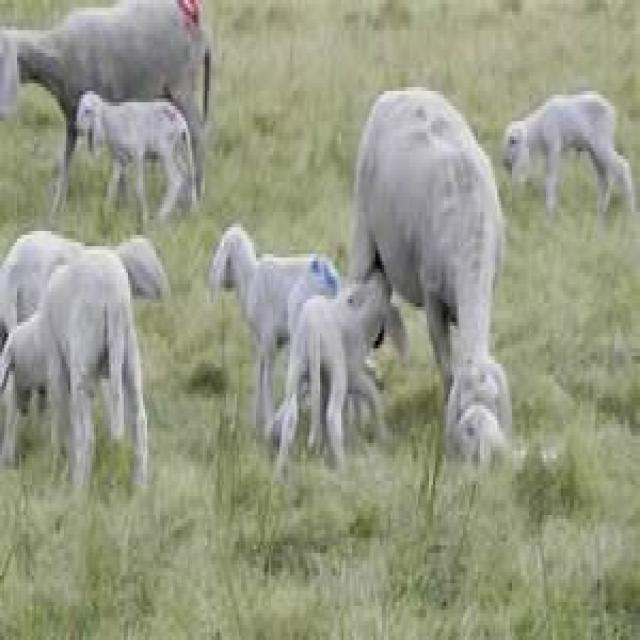goat: (350, 87, 514, 466), (0, 0, 213, 197), (0, 250, 149, 496), (209, 227, 343, 451), (275, 276, 390, 470), (506, 95, 636, 216), (75, 95, 203, 216)
